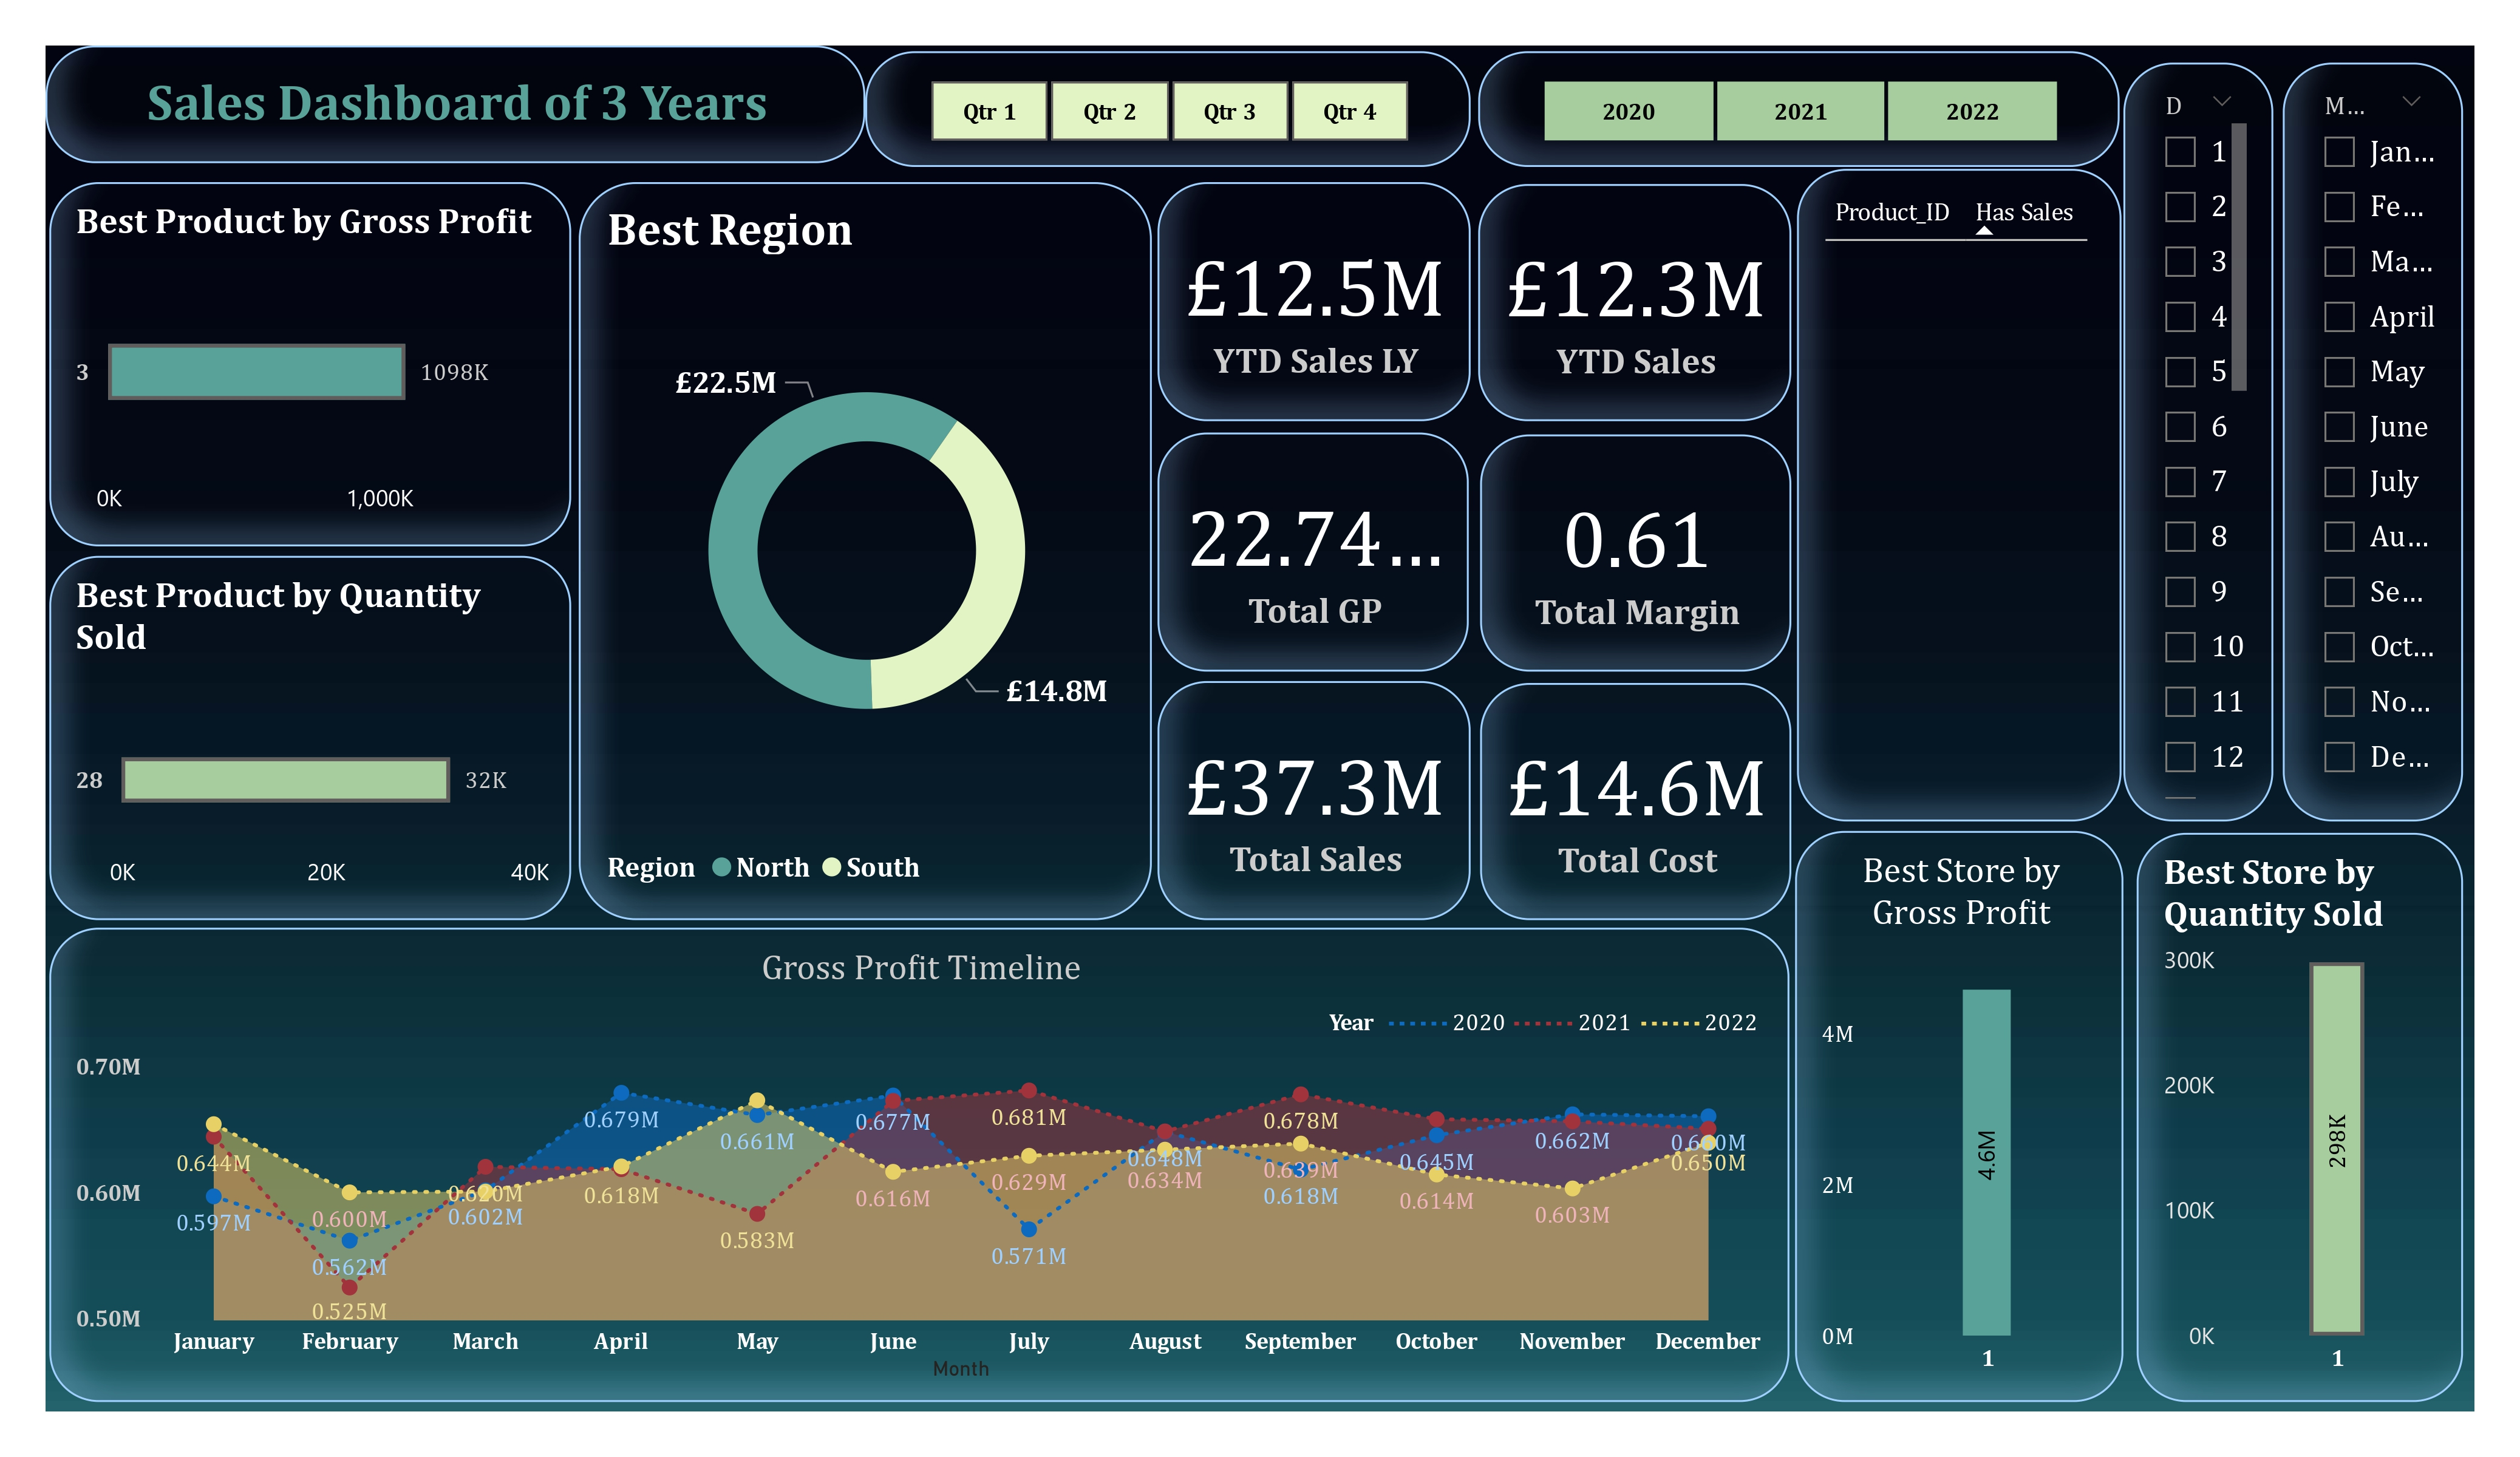

The dashboard page shown, as its layout file describes it:
{"tool":"powerbi","page":{"name":"Page 1","canvas":[1280,720],"ordinal":0},"visuals":[{"type":"slicer","fields":{"Values":["Calendar.Date.Variation.Date Hierarchy.Year"]},"box":[755.4,3.4,337.8,60.1],"z":0},{"type":"card","fields":{"Values":["Sales.Sales Value"]},"box":[585.8,335.1,164.9,125.7],"z":1000},{"type":"card","fields":{"Values":["Sales.GP Value"]},"box":[585.8,204.1,164.2,125.7],"z":2000},{"type":"card","fields":{"Values":["Sales.Margin Value"]},"box":[756.1,204.7,163.5,125],"z":3000},{"type":"areaChart","title":"Gross Profit Timeline","fields":{"Y":["Sales.GP Value"],"Category":["Calendar.Date.Variation.Date Hierarchy.Month"],"Series":["Calendar.Date.Variation.Date Hierarchy.Year"]},"box":[2.4,464.9,916.9,250],"z":4000},{"type":"barChart","title":"Best Product by Quantity Sold","fields":{"Category":["Sales.Product_ID"],"Y":["Sum(Sales.Qty_Sold)"]},"box":[2.4,268.9,275,192],"z":5000},{"type":"donutChart","title":"Best Region","fields":{"Y":["Sales.Sales Value"],"Series":["Location.Region"]},"box":[281.2,71.9,301.6,389.1],"z":6000},{"type":"columnChart","title":"Best Store by Gross Profit","fields":{"Category":["Location.Location_ID"],"Y":["Sales.GP Value"]},"box":[922.3,414.2,173,300.7],"z":7000},{"type":"slicer","fields":{"Values":["Calendar.Date.Variation.Date Hierarchy.Quarter"]},"box":[431.8,3.4,318.9,60.1],"z":8000},{"type":"slicer","fields":{"Values":["Calendar.Date.Variation.Date Hierarchy.Month"]},"box":[1179.1,8.8,95.3,400],"z":9000},{"type":"columnChart","title":"Best Store by Quantity Sold","fields":{"Category":["Sales.Location_ID"],"Y":["Sum(Sales.Qty_Sold)"]},"box":[1102,414.9,172.3,300],"z":10000},{"type":"barChart","title":"Best Product by Gross Profit","fields":{"Category":["Sales.Product_ID"],"Y":["Sales.GP Value"]},"box":[2.4,71.7,275,192],"z":11000},{"type":"card","fields":{"Values":["Sales.Cost Value"]},"box":[756.1,336.5,163.5,125],"z":12000},{"type":"card","fields":{"Values":["Sales.YTD Sales"]},"box":[755.4,73,164.2,125],"z":13000},{"type":"tableEx","fields":{"Values":["Product.Product_ID","Product.Has Sales"]},"box":[922.5,65,171.2,343.8],"z":14000},{"type":"slicer","fields":{"Values":["Calendar.Date.Variation.Date Hierarchy.Day"]},"box":[1095.3,8.8,79.1,400],"z":15000},{"type":"card","fields":{"Values":["Sales.YTD Sales LY"]},"box":[585.8,72.3,164.9,125.7],"z":16000},{"type":"textbox","box":[0,0,431.9,62.3],"z":17000}]}

Visuals, with their boxes on the page's 1280x720 design canvas (x1, y1, x2, y2). These are canvas units, not pixel positions in the 2520x1457 screenshot, which may show the page scaled, cropped or inside an application window:
slicer - Calendar.Date.Variation.Date Hierarchy.Year: crop(755, 3, 1093, 64)
card - Sales.Sales Value: crop(586, 335, 751, 461)
card - Sales.GP Value: crop(586, 204, 750, 330)
card - Sales.Margin Value: crop(756, 205, 920, 330)
"Gross Profit Timeline" areaChart: crop(2, 465, 919, 715)
"Best Product by Quantity Sold" barChart: crop(2, 269, 277, 461)
"Best Region" donutChart: crop(281, 72, 583, 461)
"Best Store by Gross Profit" columnChart: crop(922, 414, 1095, 715)
slicer - Calendar.Date.Variation.Date Hierarchy.Quarter: crop(432, 3, 751, 64)
slicer - Calendar.Date.Variation.Date Hierarchy.Month: crop(1179, 9, 1274, 409)
"Best Store by Quantity Sold" columnChart: crop(1102, 415, 1274, 715)
"Best Product by Gross Profit" barChart: crop(2, 72, 277, 264)
card - Sales.Cost Value: crop(756, 336, 920, 462)
card - Sales.YTD Sales: crop(755, 73, 920, 198)
tableEx - Product.Product_ID x Product.Has Sales: crop(922, 65, 1094, 409)
slicer - Calendar.Date.Variation.Date Hierarchy.Day: crop(1095, 9, 1174, 409)
card - Sales.YTD Sales LY: crop(586, 72, 751, 198)
textbox: crop(0, 0, 432, 62)
